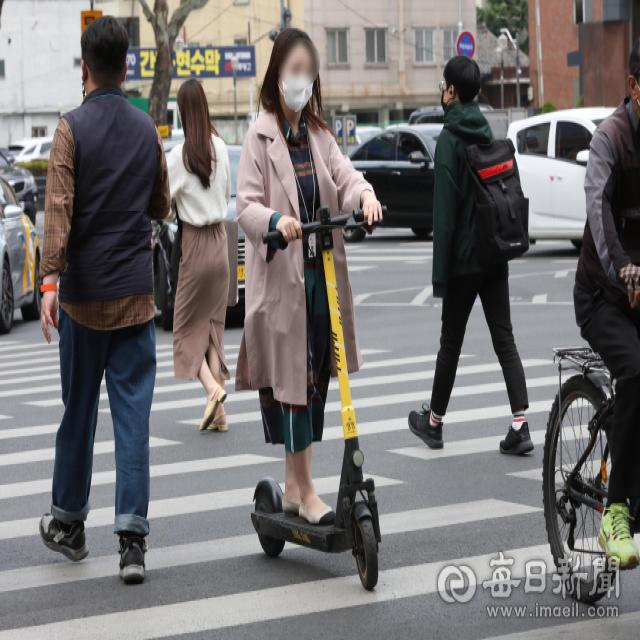non-helmet: (226, 16, 388, 596)
